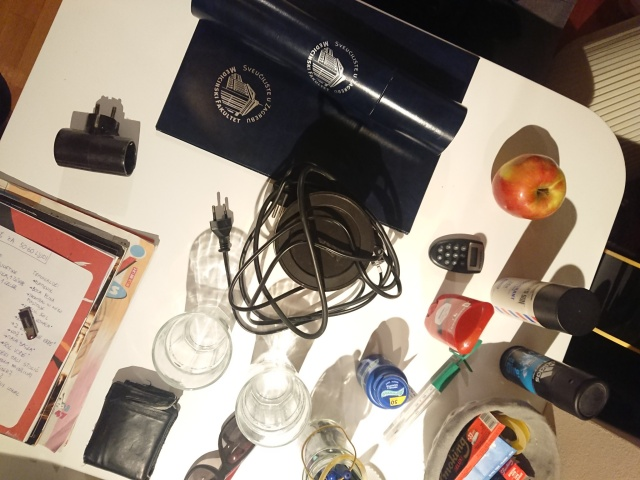Nescafe Classic 225g: (271, 188, 378, 295)
